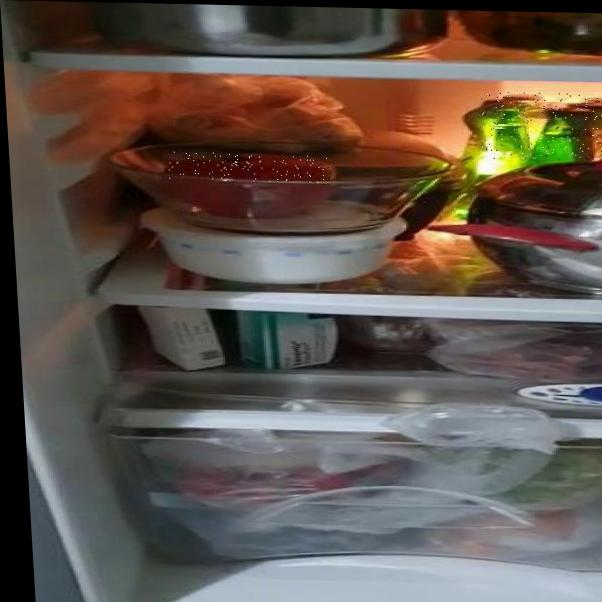mineral water: (479, 92, 602, 161)
tomato: (167, 151, 331, 183)
